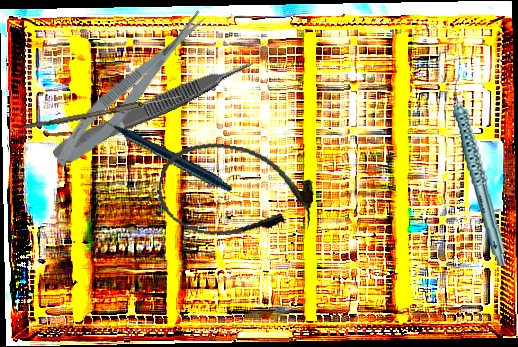Cannula: (152, 135, 320, 250)
Handpiece: (97, 73, 234, 228), (451, 74, 507, 267)
Micro Scissor: (47, 5, 217, 175)
Surgical Spoon: (23, 91, 184, 133)
Tissue Forceps: (48, 54, 259, 164)
